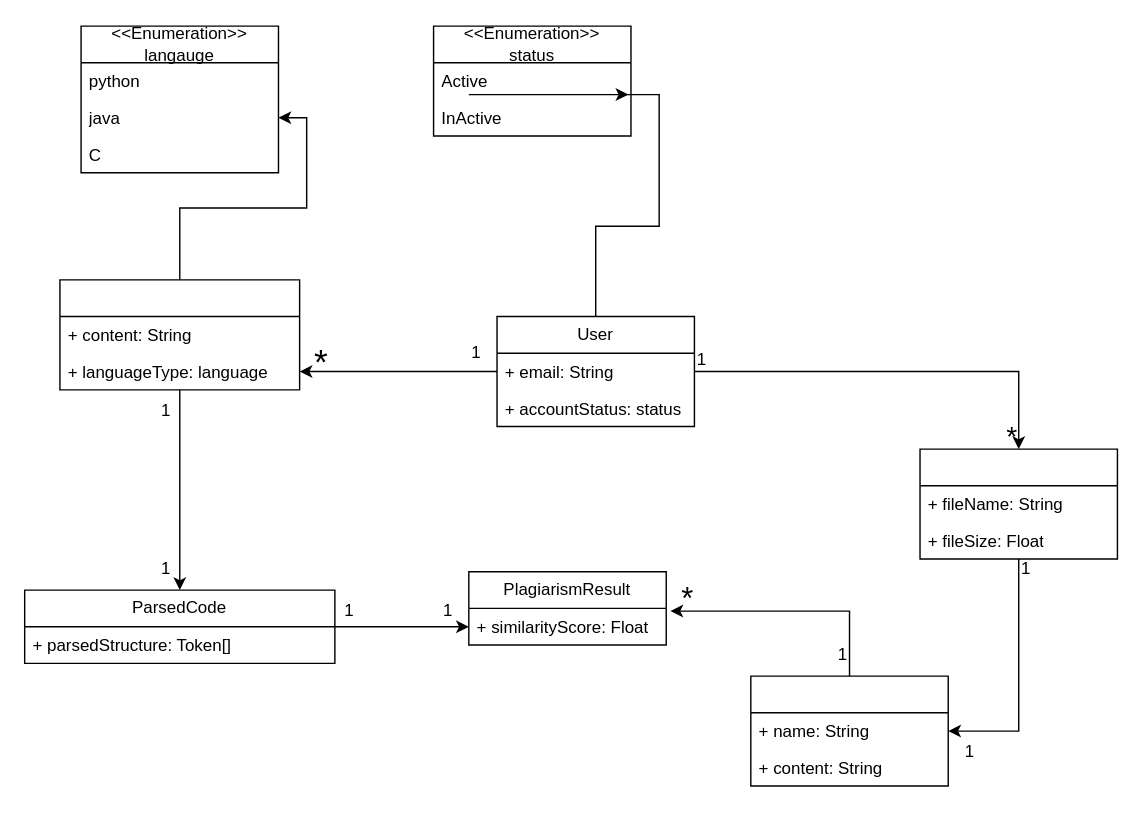
This 1142x815 diagram has some shape labels left out. The box of each missing label's shape, as (x1, y1, x2, y2) in pixels:
CodeSnippet: (59, 278, 300, 390)
Report: (749, 675, 948, 786)
ResultPackage: (919, 448, 1117, 559)
